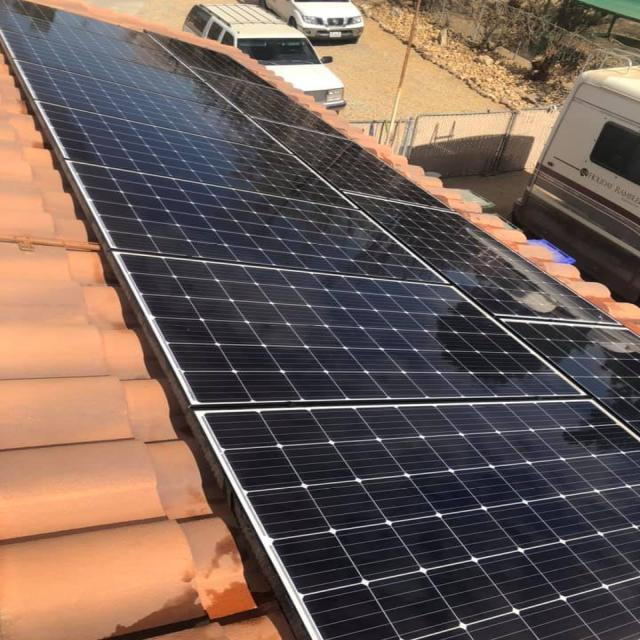clean-solar-panel: (227, 450, 300, 490)
